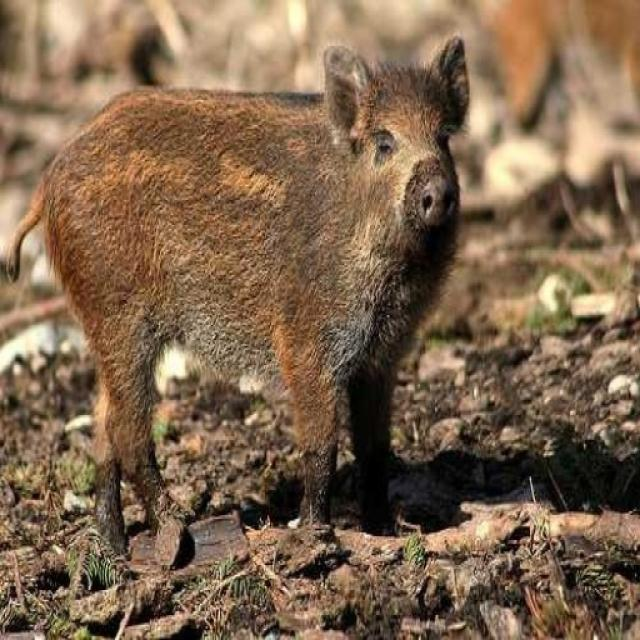pig: (15, 20, 493, 482)
